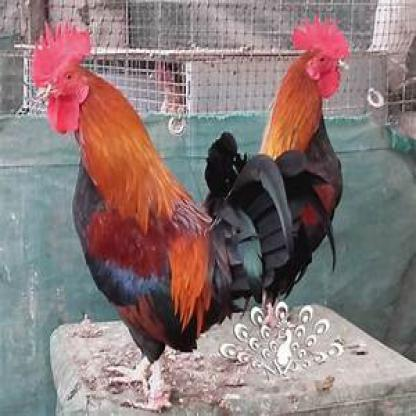chicken: (31, 19, 342, 411), (260, 13, 352, 148)
